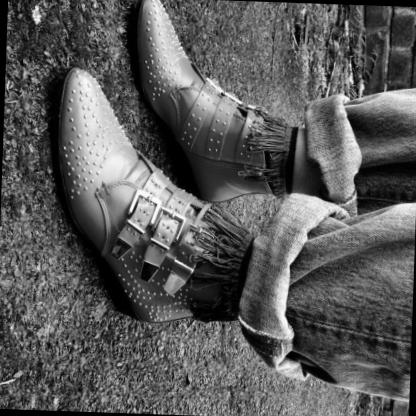ankle: (260, 163, 264, 168), (197, 285, 201, 289)
heel: (147, 315, 151, 319), (239, 190, 242, 195)
left_foot: (131, 1, 290, 205)
pinky: (64, 150, 69, 156), (166, 18, 168, 22)
right_foot: (54, 70, 241, 327)
toe: (142, 25, 147, 29), (93, 82, 97, 87)
